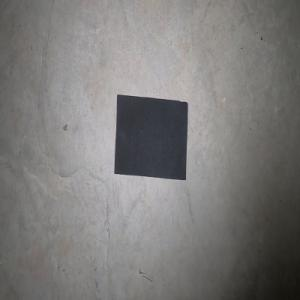PaintChip: (114, 94, 187, 180)
